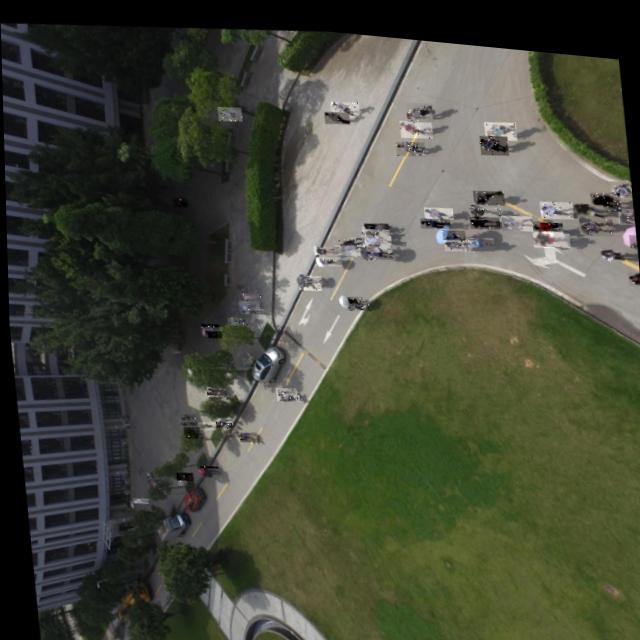Person: (577, 202, 613, 225), (531, 217, 569, 238), (483, 108, 517, 131), (538, 187, 572, 209), (398, 109, 432, 131), (589, 177, 621, 200), (405, 91, 435, 114), (479, 123, 508, 146), (499, 202, 532, 221), (471, 177, 504, 196), (571, 188, 603, 207), (468, 194, 500, 212), (329, 92, 359, 111), (460, 225, 493, 242), (394, 130, 425, 148), (422, 195, 453, 212), (608, 164, 631, 186), (468, 204, 499, 220), (359, 224, 390, 240), (532, 209, 562, 225), (359, 218, 389, 234), (216, 99, 242, 117), (418, 206, 449, 221), (598, 233, 625, 250), (339, 235, 366, 251), (363, 233, 391, 248), (323, 102, 349, 118), (331, 235, 360, 249), (442, 228, 469, 243), (335, 227, 363, 241), (362, 212, 388, 227), (297, 269, 320, 285), (616, 193, 634, 212), (314, 247, 340, 260), (364, 242, 392, 254), (441, 218, 466, 231), (343, 292, 367, 304), (296, 266, 320, 278), (236, 293, 258, 306), (273, 380, 295, 393), (311, 238, 334, 249), (340, 287, 361, 298), (197, 462, 218, 473), (225, 311, 247, 321), (237, 428, 257, 439), (238, 286, 259, 296), (173, 466, 192, 477), (626, 258, 639, 274), (238, 301, 261, 310), (274, 387, 297, 396), (204, 381, 224, 391), (194, 416, 214, 426), (233, 424, 254, 433), (180, 420, 197, 431), (200, 320, 220, 329), (206, 388, 226, 397), (210, 416, 229, 425), (203, 324, 220, 334), (171, 192, 186, 203), (213, 411, 231, 420), (183, 427, 201, 435), (197, 460, 215, 468), (177, 408, 193, 416), (199, 318, 217, 325), (129, 493, 144, 501), (628, 221, 636, 235), (177, 415, 194, 421), (175, 475, 184, 482)
